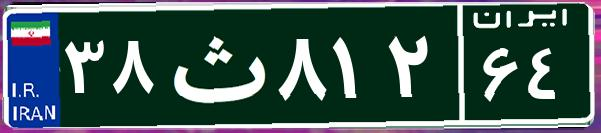1: (330, 28, 385, 110)
2: (385, 28, 445, 110)
3: (57, 26, 110, 107)
4: (525, 38, 570, 115)
6: (475, 38, 525, 113)
8: (273, 28, 330, 110), (110, 28, 158, 105)
ث: (158, 15, 273, 115)
